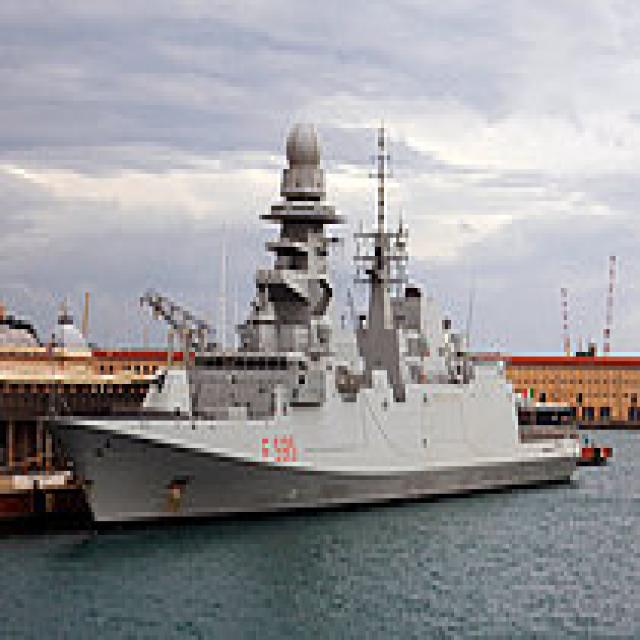Warship: (37, 110, 579, 526)
